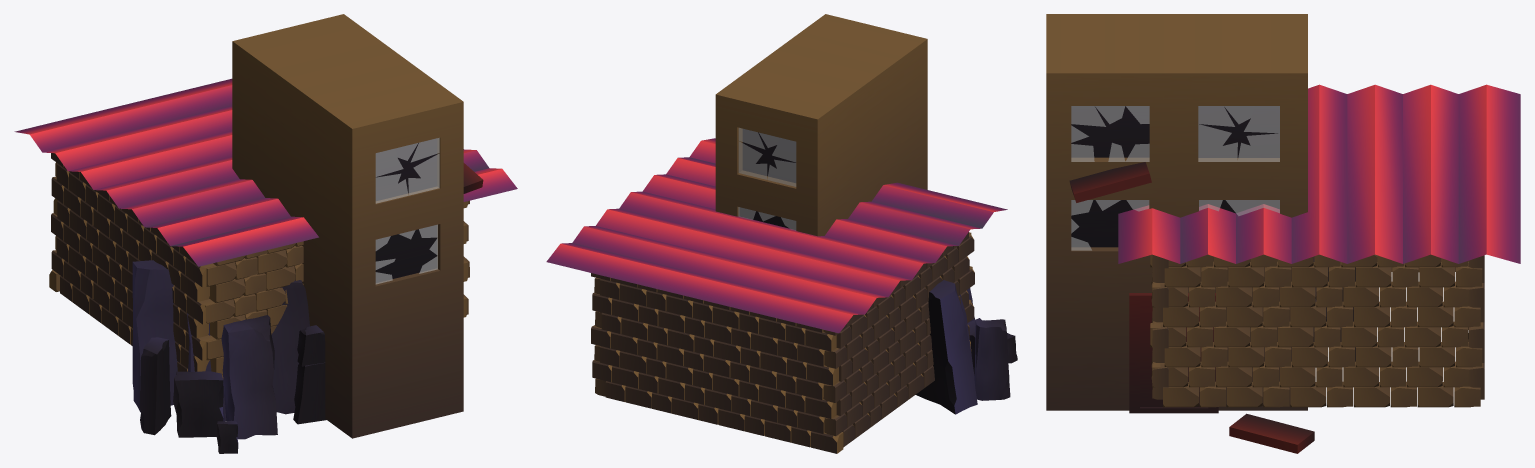
File: props (6).fbx
3 renders of one model, left to right at view 1: azimuth 30°, elevation 25°; view 2: azimuth 150°, elevation 25°; view 3: azimuth 270°, elevation 25°, orthographic. The views are drawn at different scales.
Visible parts, largest first — view 1: house, Cube.001, cave.001; view 2: Cube.001, house, cave.001; view 3: Cube.001, house.
Boxes of the visible parts, x1,y1,x2,y2 form: house: (232, 14, 483, 438); Cube.001: (14, 78, 517, 379); cave.001: (132, 260, 326, 453); Cube.001: (546, 138, 1007, 453); house: (715, 14, 927, 236); cave.001: (915, 280, 1017, 414); Cube.001: (1118, 84, 1520, 407); house: (1046, 14, 1314, 453).
Size of the model in its own units: 2455 by 2156 by 2646.
